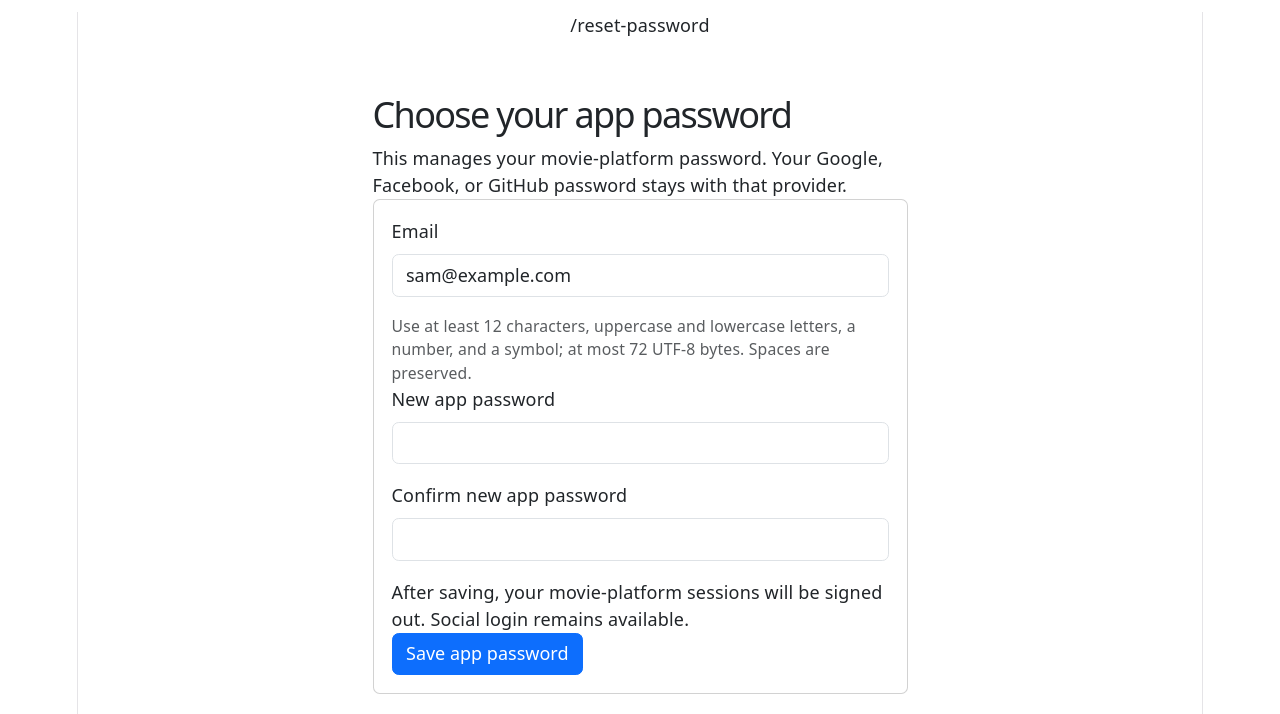
Test: captures token/email, removes them from the URL, and resets with the exact link values
The image size is (1280, 714).
Expected: the text named "Current URL" reads "/reset-password", [570,13,710,37]
Expected: the text named "Current URL" does not show "dummy-test-token", [570,13,710,37]
In the password field labelled "New app password": coordinates (640, 443) [392,422,888,464], type "StrongNew!Pass123"
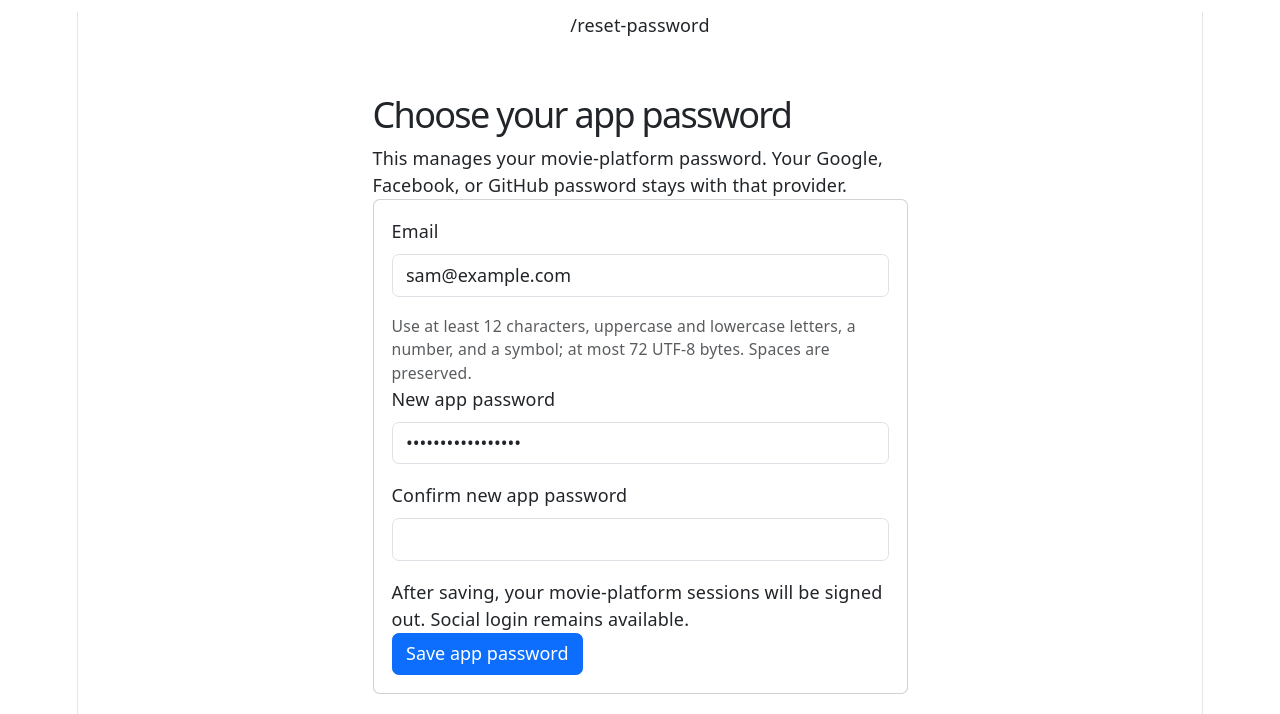
In the password field labelled "Confirm new app password": coordinates (640, 539) [392,518,888,561], type "StrongNew!Pass123"
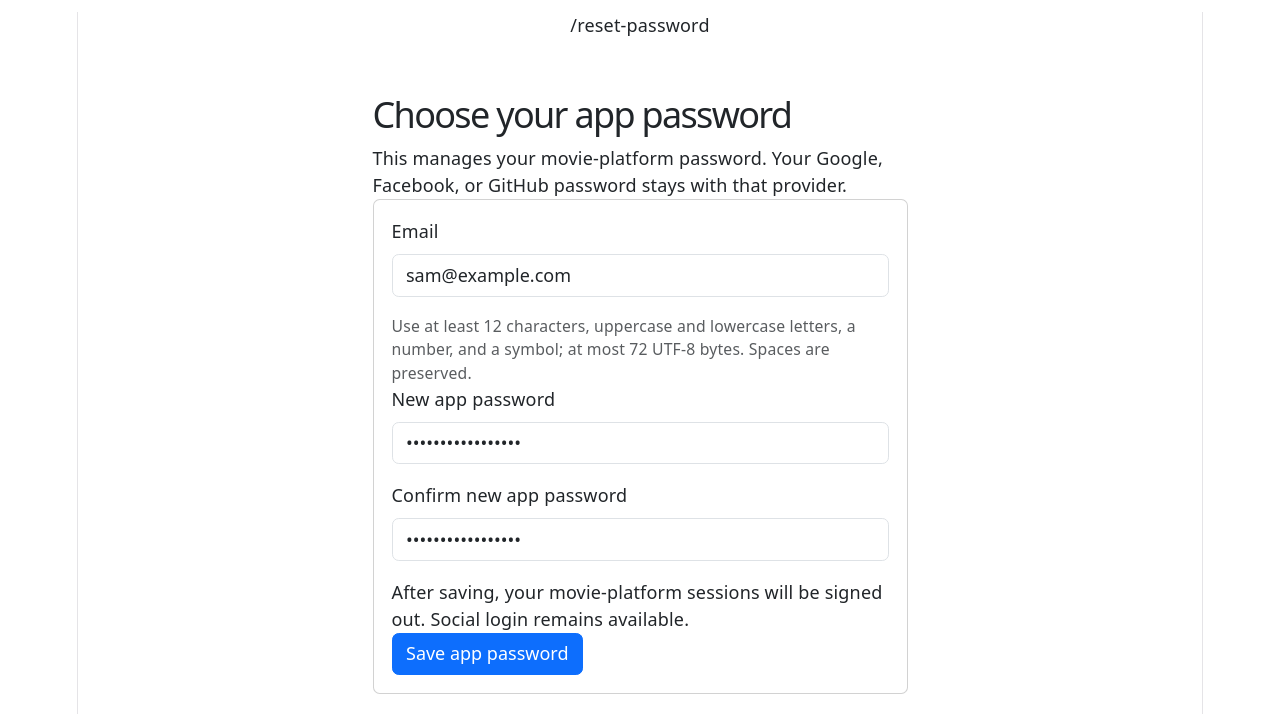
Click the button "Save app password": coordinates (487, 654) [392,633,583,675]
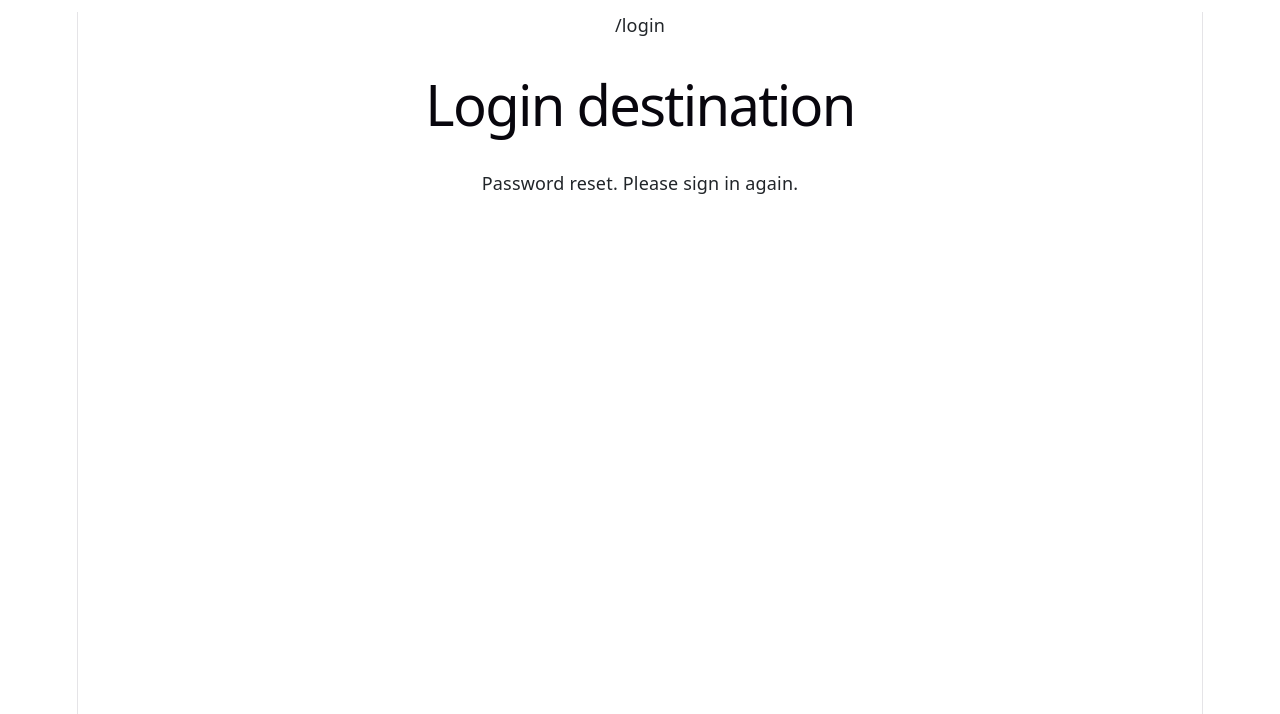
Expected: the heading "Login destination" is shown, [425,66,855,142]
